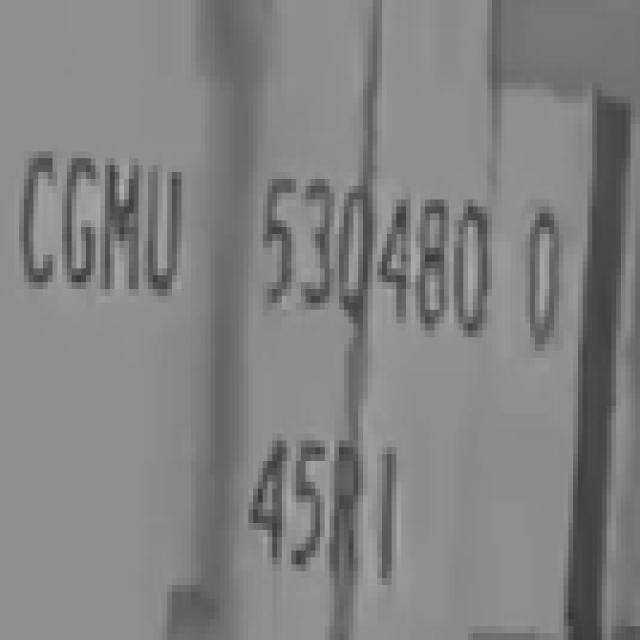dv: (514, 184, 569, 358)
owner: (12, 136, 196, 308)
serial: (261, 160, 496, 350)
size: (245, 419, 412, 599)
